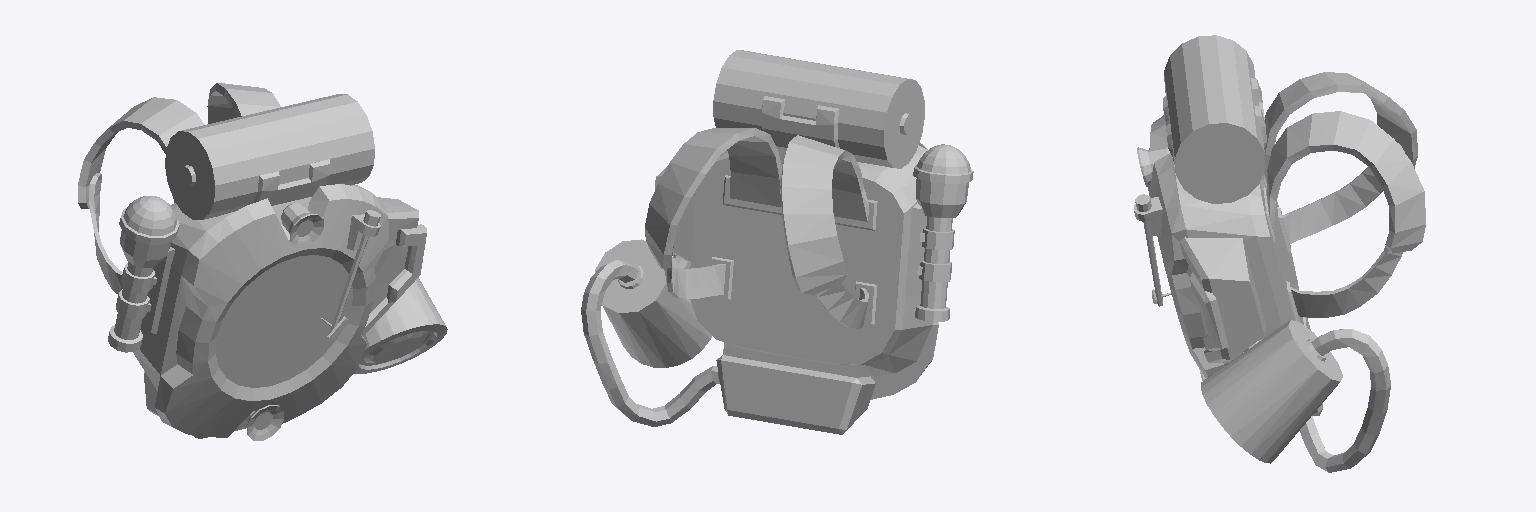
File: backpack lv2.obj
3 renders of one model, left to right at view 1: azimuth 30°, elevation 25°; view 2: azimuth 150°, elevation 25°; view 3: azimuth 270°, elevation 25°, orthographic.
Visible parts, largest first — view 1: Preview_Backpack_Fashiontrends_EP_LV2_0; view 2: Preview_Backpack_Fashiontrends_EP_LV2_0; view 3: Preview_Backpack_Fashiontrends_EP_LV2_0.
Part boxes in pixels (x1,y1,x2,y2): Preview_Backpack_Fashiontrends_EP_LV2_0: (78, 83, 447, 440); Preview_Backpack_Fashiontrends_EP_LV2_0: (581, 50, 973, 434); Preview_Backpack_Fashiontrends_EP_LV2_0: (1134, 35, 1425, 472).
Bounding box in the file's own units: 0.9768 × 0.961 × 0.7406.